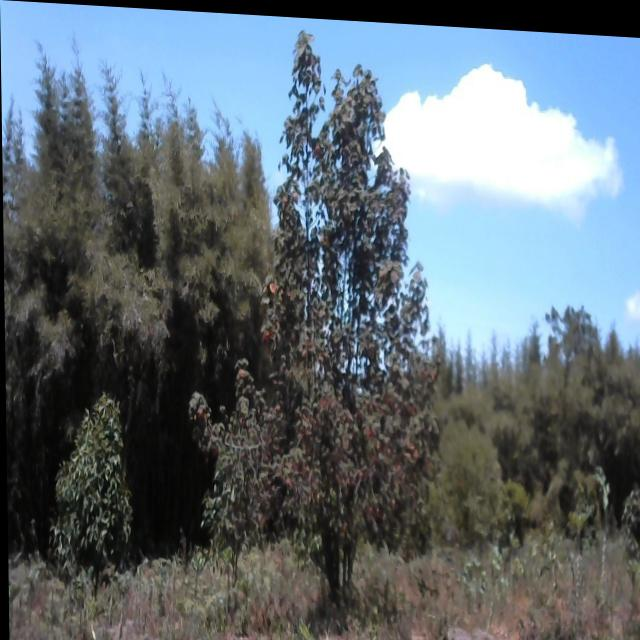Hass Avocado: (47, 389, 136, 607)
cedrus: (30, 60, 261, 365)
other: (258, 12, 439, 614)
